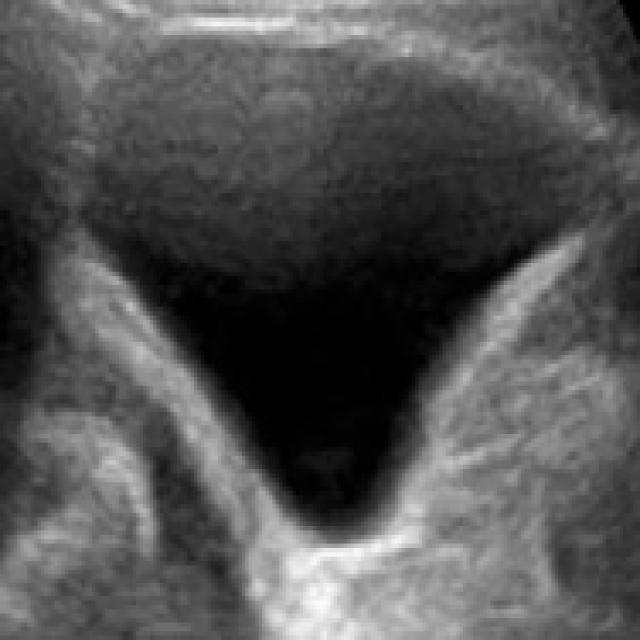bladder: (58, 11, 618, 622)
